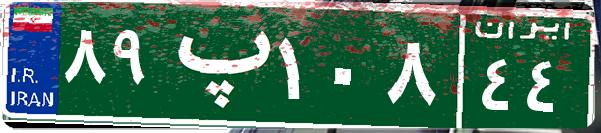0: (330, 28, 385, 110)
1: (273, 28, 330, 110)
4: (475, 38, 525, 113), (525, 38, 570, 115)
8: (385, 28, 445, 110), (57, 26, 110, 107)
9: (110, 28, 158, 105)
پ: (158, 15, 273, 115)
